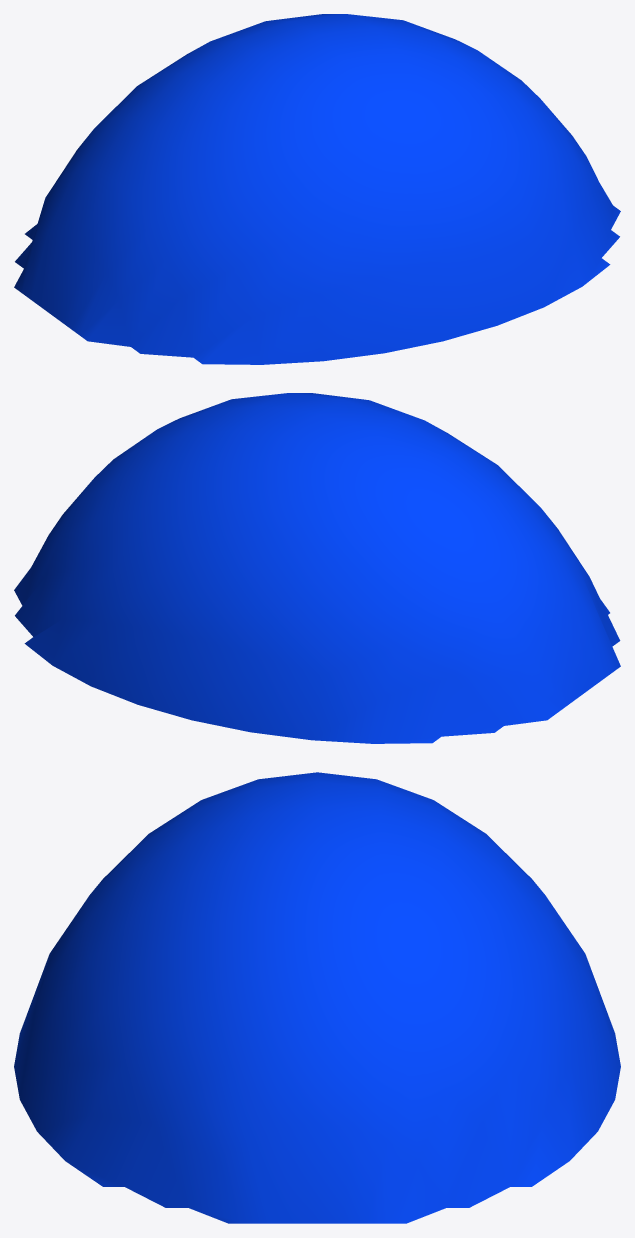
The model's file is Progeny Dome.FBX.
3 renders of one model, top to bottom at view 1: azimuth 30°, elevation 25°; view 2: azimuth 150°, elevation 25°; view 3: azimuth 270°, elevation 25°, orthographic. The views are drawn at different scales.
Parts seen in each view (by area): view 1: Arena Dome; view 2: Arena Dome; view 3: Arena Dome.
Boxes of the visible parts, x1,y1,x2,y2 form: Arena Dome: [14, 14, 620, 364]; Arena Dome: [14, 393, 620, 743]; Arena Dome: [14, 772, 620, 1223].
Bounding box in the file's own units: 150 × 57.75 × 123.
